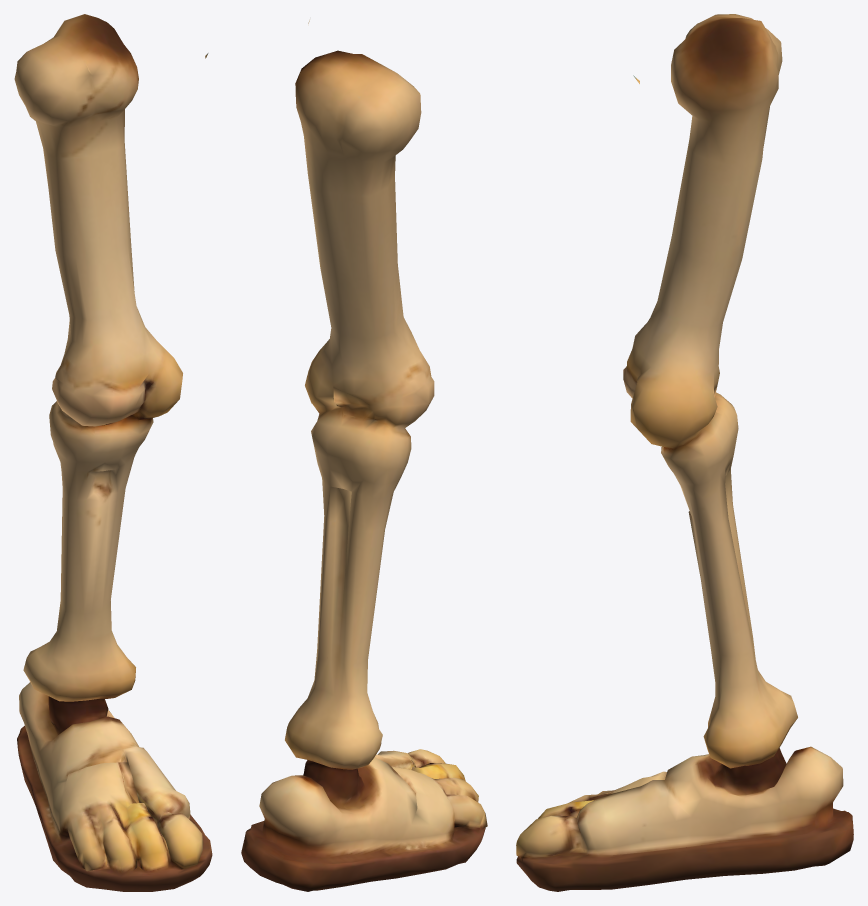
The model's file is pierDer.obj.
3 renders of one model, left to right at view 1: azimuth 30°, elevation 25°; view 2: azimuth 150°, elevation 25°; view 3: azimuth 270°, elevation 25°, orthographic. The views are drawn at different scales.
Parts seen in each view (by area): view 1: pierDer; view 2: pierDer; view 3: pierDer.
Boxes of the visible parts, x1=… form: pierDer: x1=14, y1=14, x2=212, y2=891; pierDer: x1=241, y1=20, x2=487, y2=891; pierDer: x1=516, y1=14, x2=853, y2=891.
Size of the model in its own units: 0.0968 by 0.4854 by 0.1713.
Materials: 1 (1 with a texture image).
